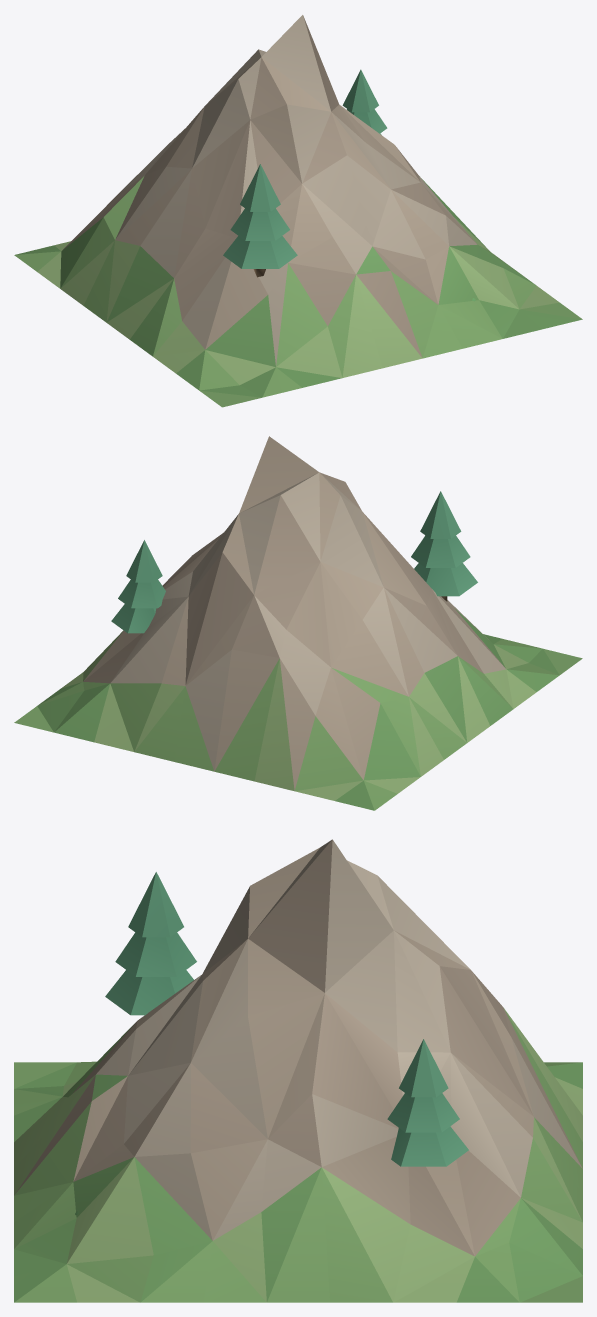
Rendered from terrain-mountain-1.glb.
3 views of the same model, one above another, from view 1: azimuth 30°, elevation 25°; view 2: azimuth 150°, elevation 25°; view 3: azimuth 270°, elevation 25° (orthographic). The views are drawn at different scales.
Parts seen in each view (by area): view 1: terrain-mountain-1; view 2: terrain-mountain-1; view 3: terrain-mountain-1.
Boxes of the visible parts, <box> form: terrain-mountain-1: <box>14,15,582,407</box>; terrain-mountain-1: <box>14,436,582,810</box>; terrain-mountain-1: <box>14,839,582,1302</box>.
Bounding box in the file's own units: 1 × 0.6875 × 1.
